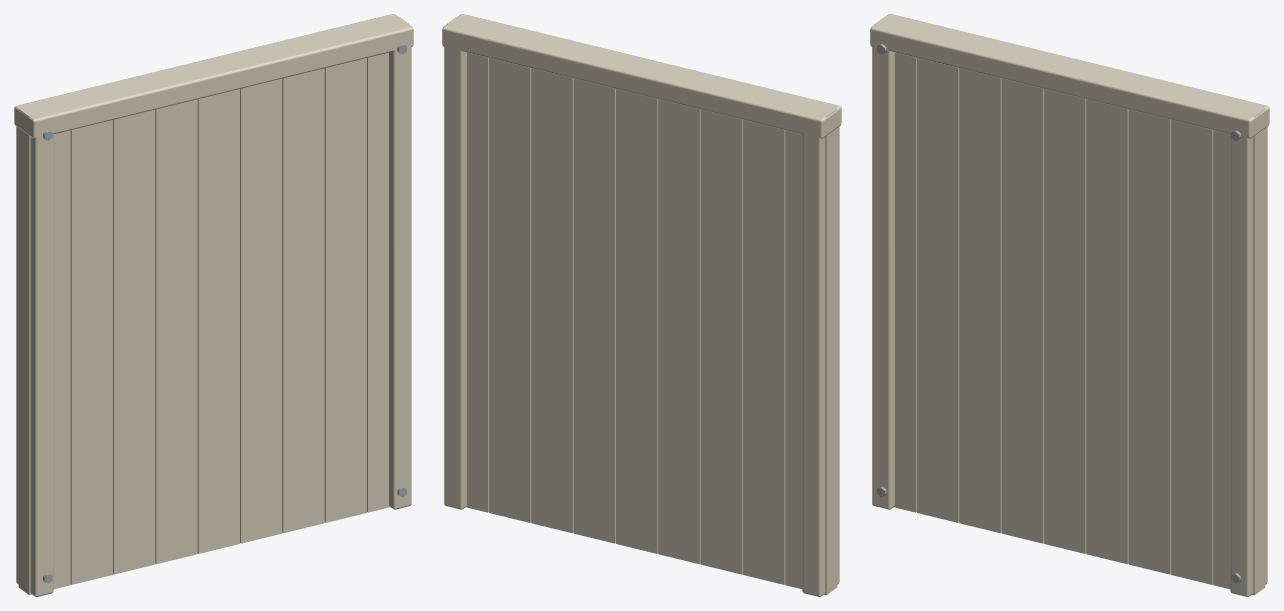
Rendered from suburban-outbreak-interiors-room-solid-partition-d6e16150__19872.glb.
3 renders of one model, left to right at view 1: azimuth 30°, elevation 25°; view 2: azimuth 150°, elevation 25°; view 3: azimuth 330°, elevation 25°, orthographic.
Visible parts, largest first — view 1: room-solid-partition; view 2: room-solid-partition; view 3: room-solid-partition.
Boxes of the visible parts, x1=… form: room-solid-partition: x1=14, y1=14, x2=413, y2=596; room-solid-partition: x1=442, y1=14, x2=841, y2=596; room-solid-partition: x1=870, y1=14, x2=1269, y2=596.
Bounding box in the file's own units: 2 × 2.4 × 0.2004.
